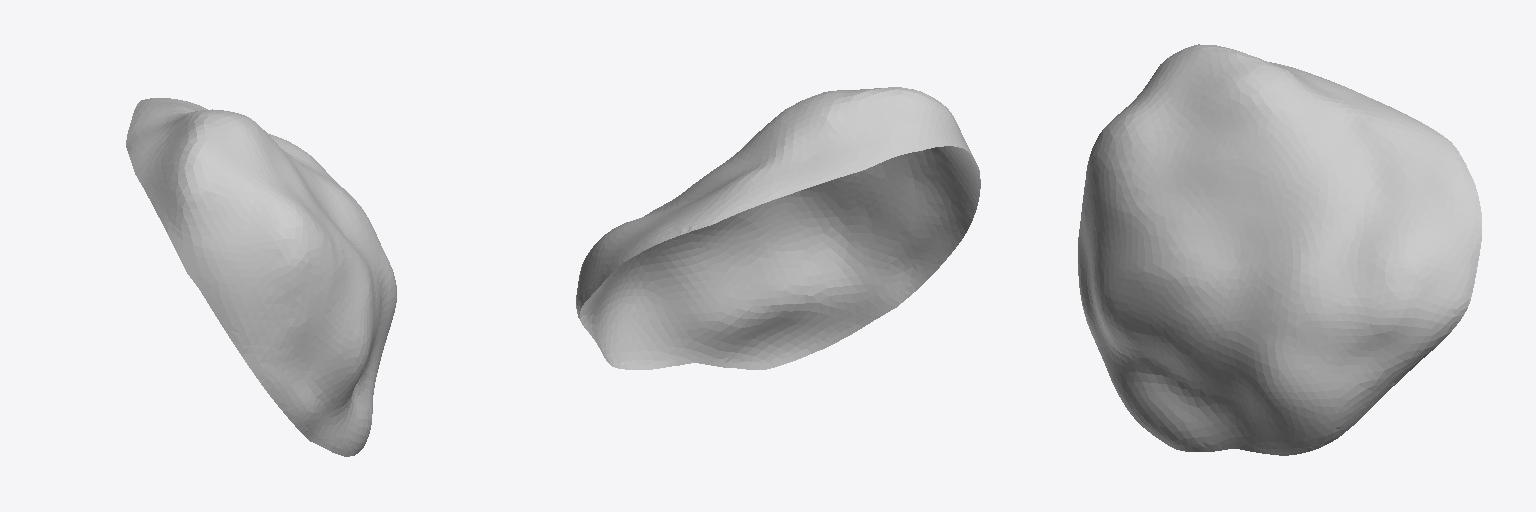
Rendered from Paciente1_ses_flex.obj.
The picture shows the model from 3 angles: view 1: azimuth 30°, elevation 25°; view 2: azimuth 150°, elevation 25°; view 3: azimuth 270°, elevation 25°; orthographic projection.
Visible parts, largest first — view 1: Paciente_1_ses_flex; view 2: Paciente_1_ses_flex; view 3: Paciente_1_ses_flex.
Part boxes in pixels (left/top/right/bottom): Paciente_1_ses_flex: left=126, top=98, right=396, bottom=456; Paciente_1_ses_flex: left=576, top=87, right=980, bottom=369; Paciente_1_ses_flex: left=1078, top=44, right=1481, bottom=455.
Size of the model in its own units: 7.77 by 8.51 by 9.4.